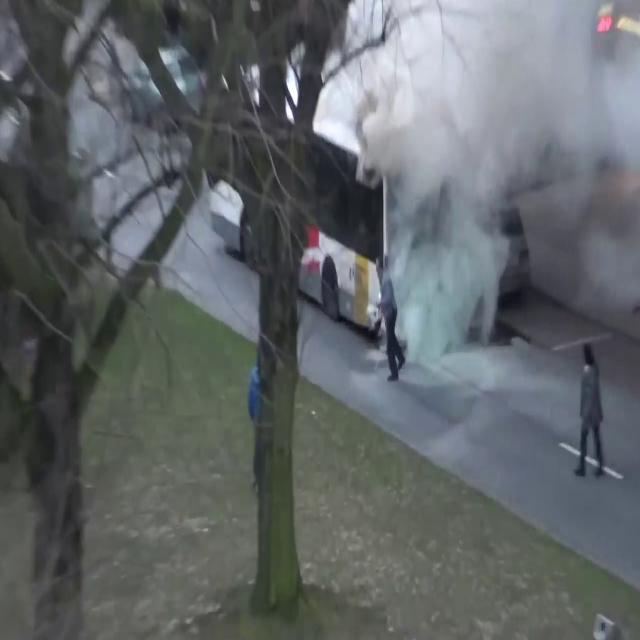Smoke: (360, 0, 640, 355)
